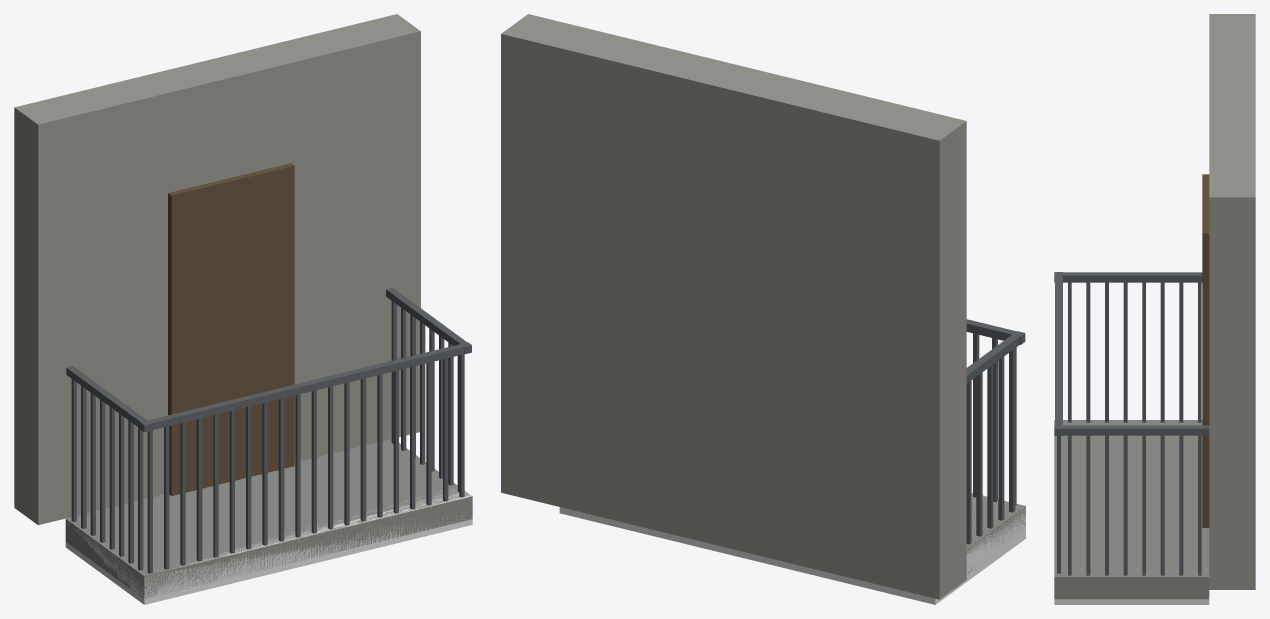
File: balcony_bars.glb
3 renders of one model, left to right at view 1: azimuth 30°, elevation 25°; view 2: azimuth 150°, elevation 25°; view 3: azimuth 270°, elevation 25°, orthographic. The views are drawn at different scales.
Parts seen in each view (by area): view 1: balcony_mesh, balcony_bars-col; view 2: balcony_mesh, balcony_bars-col; view 3: balcony_mesh, balcony_bars-col.
Part boxes in pixels (x1,y1,x2,y2): balcony_mesh: (14, 14, 472, 598); balcony_bars-col: (65, 486, 472, 604); balcony_mesh: (501, 14, 1025, 599); balcony_bars-col: (559, 493, 1025, 604); balcony_mesh: (1054, 14, 1255, 599); balcony_bars-col: (1054, 599, 1209, 604).
Bounding box in the file's own units: 2.8 × 3 × 1.3.
